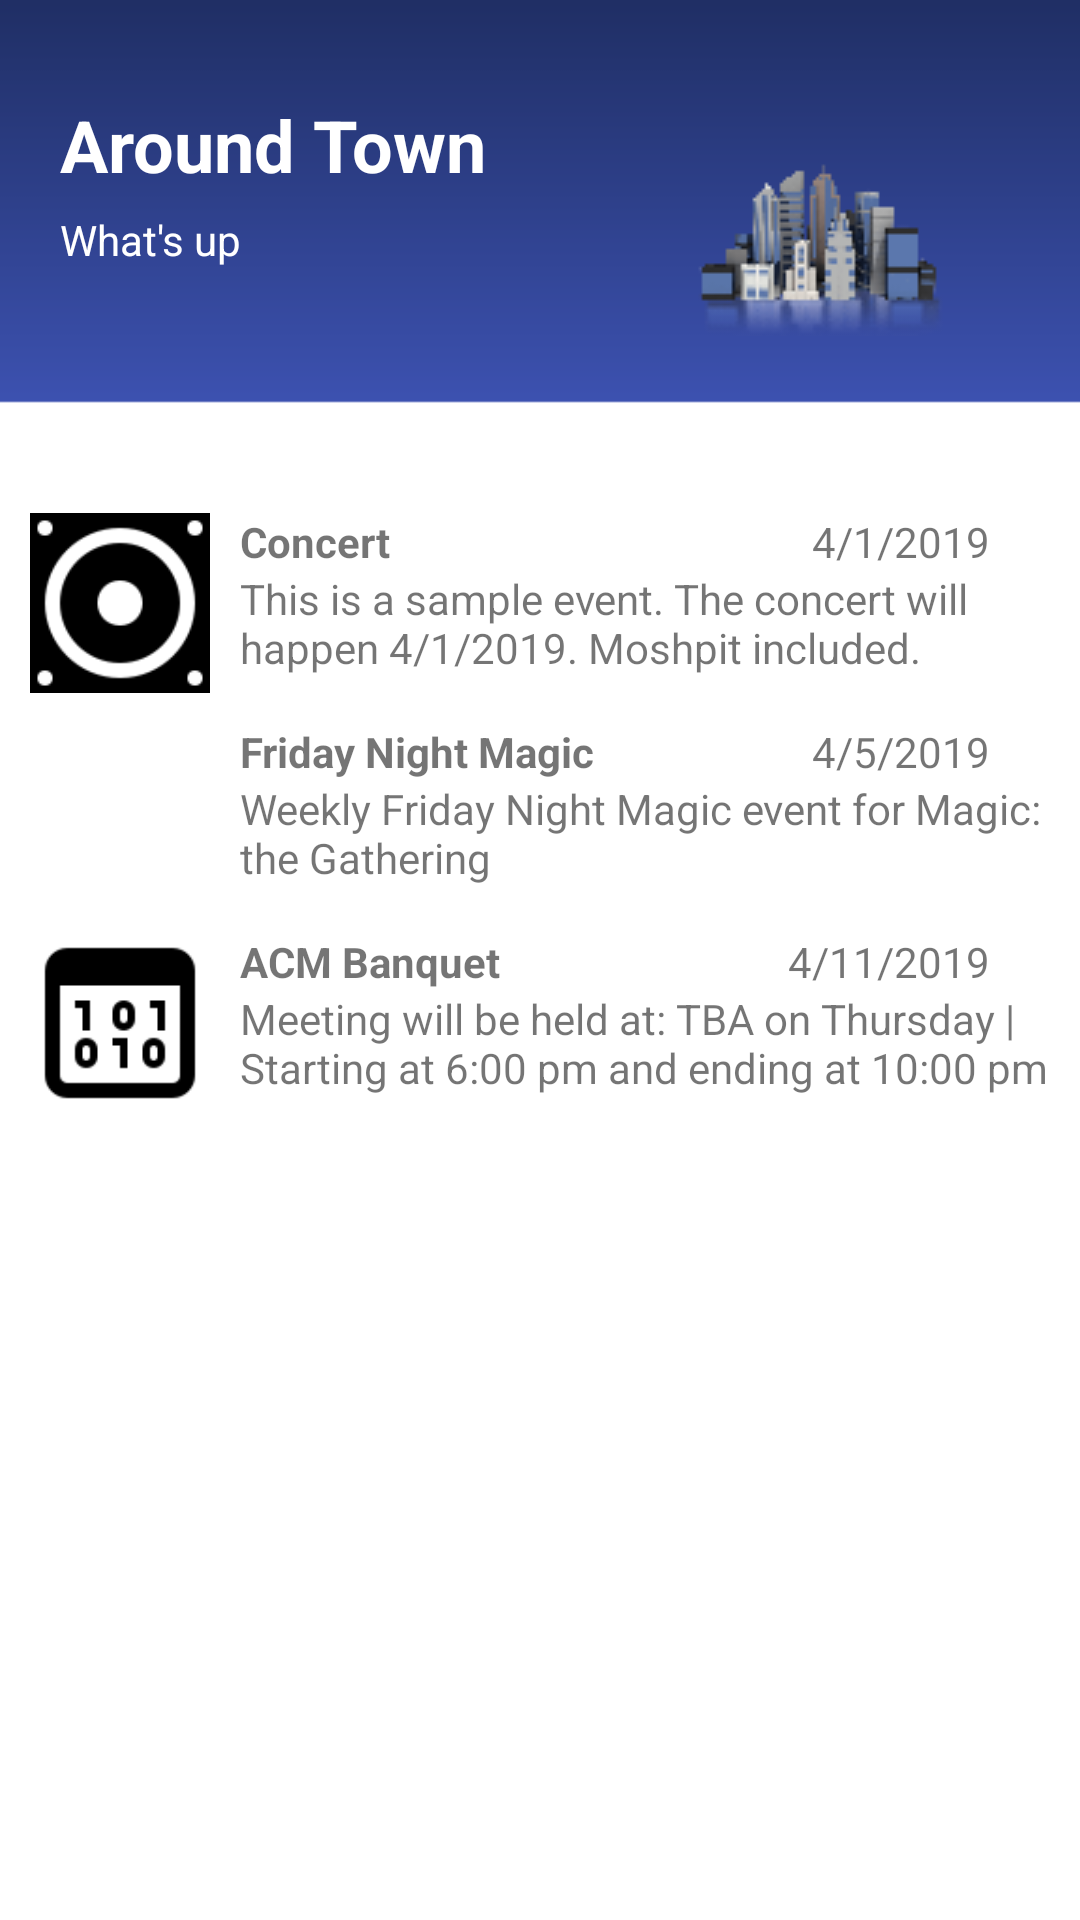

Icons on this 1080 x 1920 Android screen, each with the point to tap as (x=x, y=y):
computer: (x=120, y=1023)
town: (x=825, y=241)
